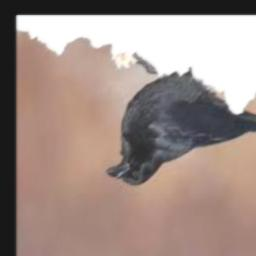Crow: (105, 49, 256, 186)
